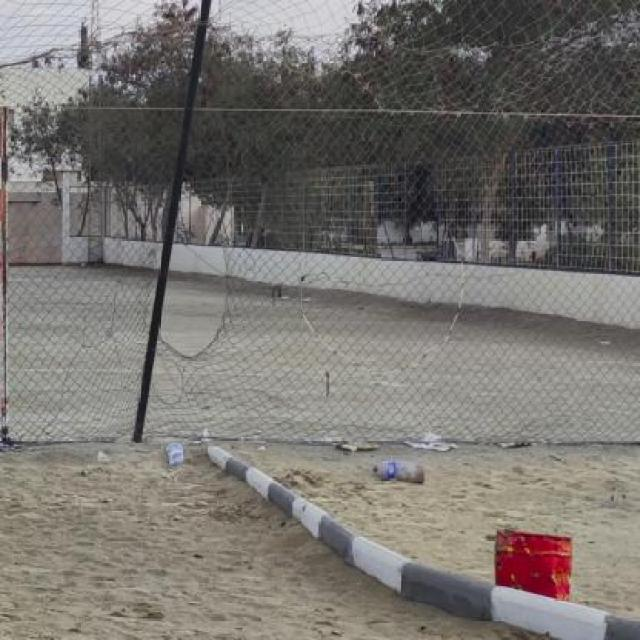fence line: (108, 171, 248, 382)
